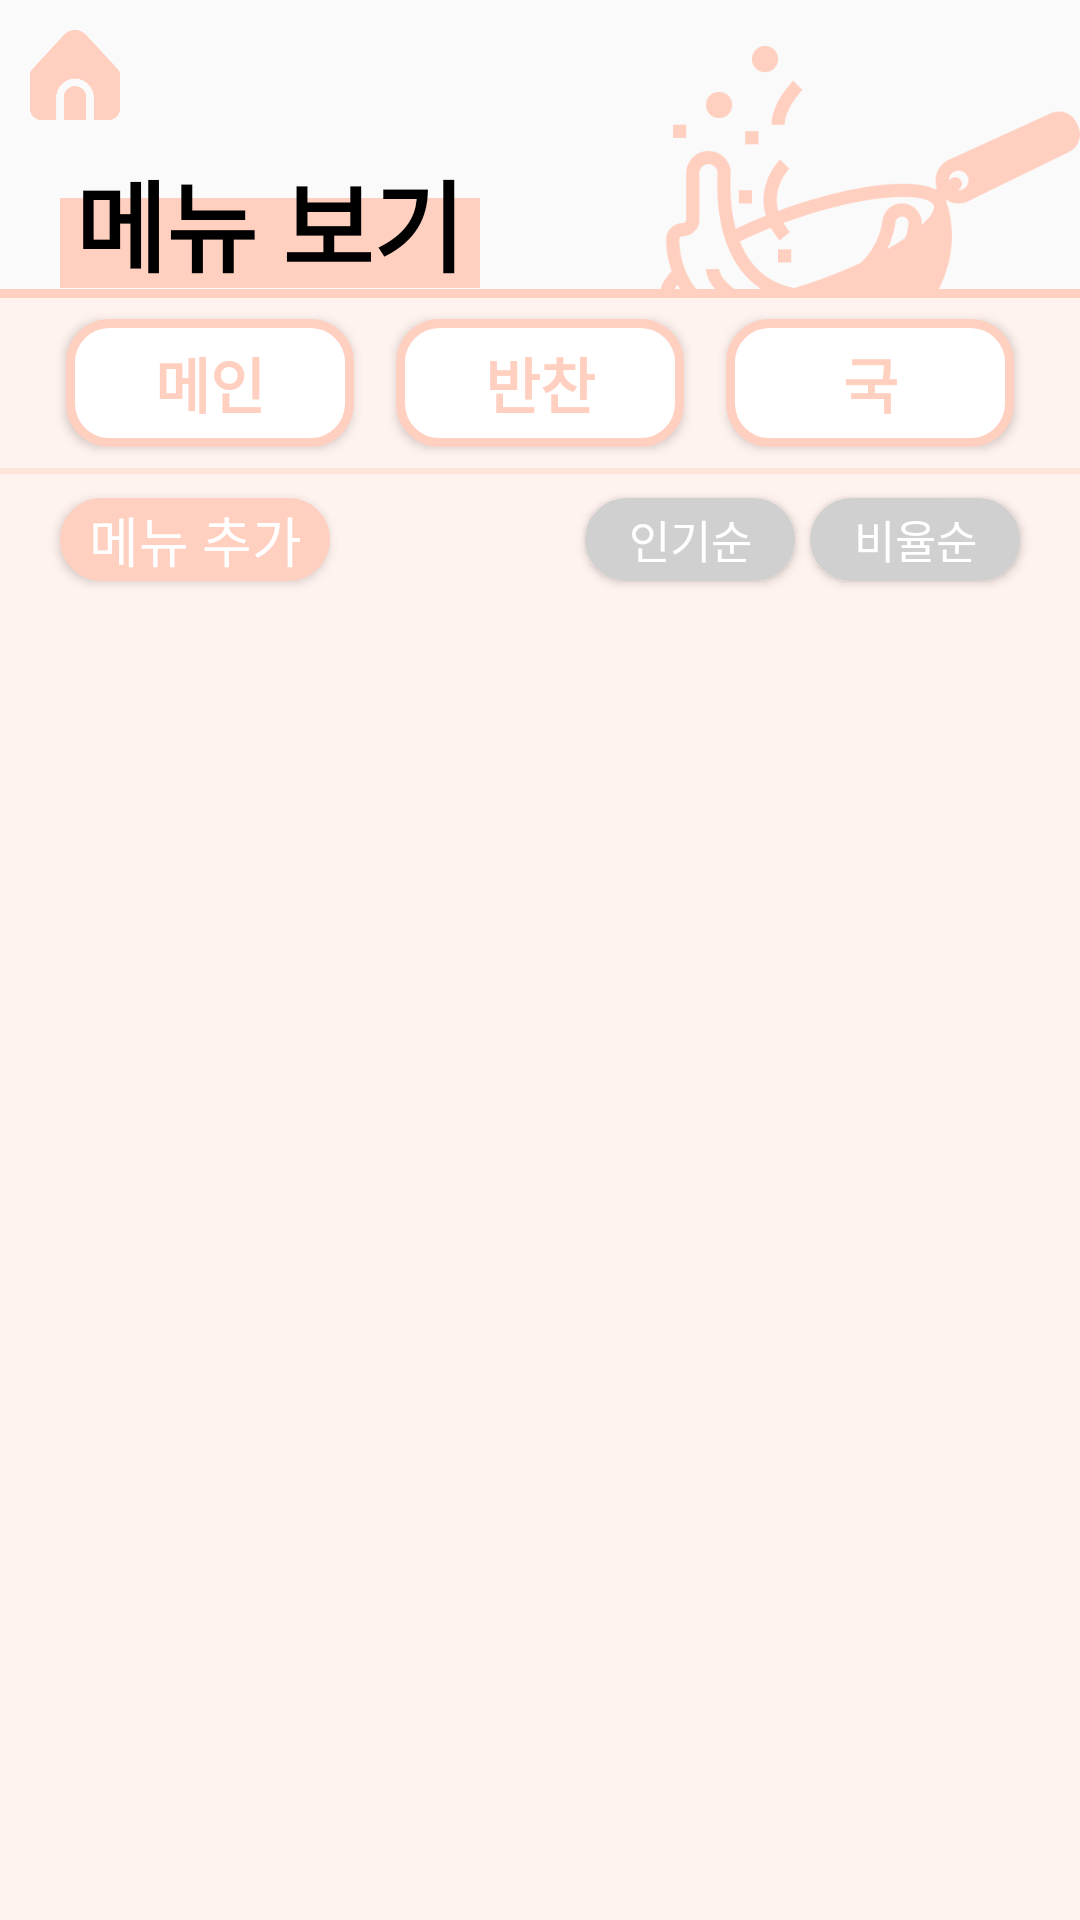

Icon bounding boxes for this 1080*1920 phone screenshot, format (x1, y1, x2, y2):
home: (30, 30, 120, 120)
